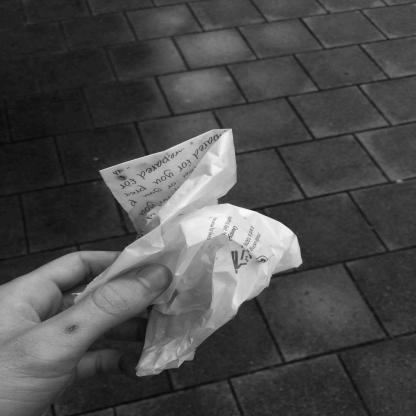plastic: (87, 124, 301, 372)
